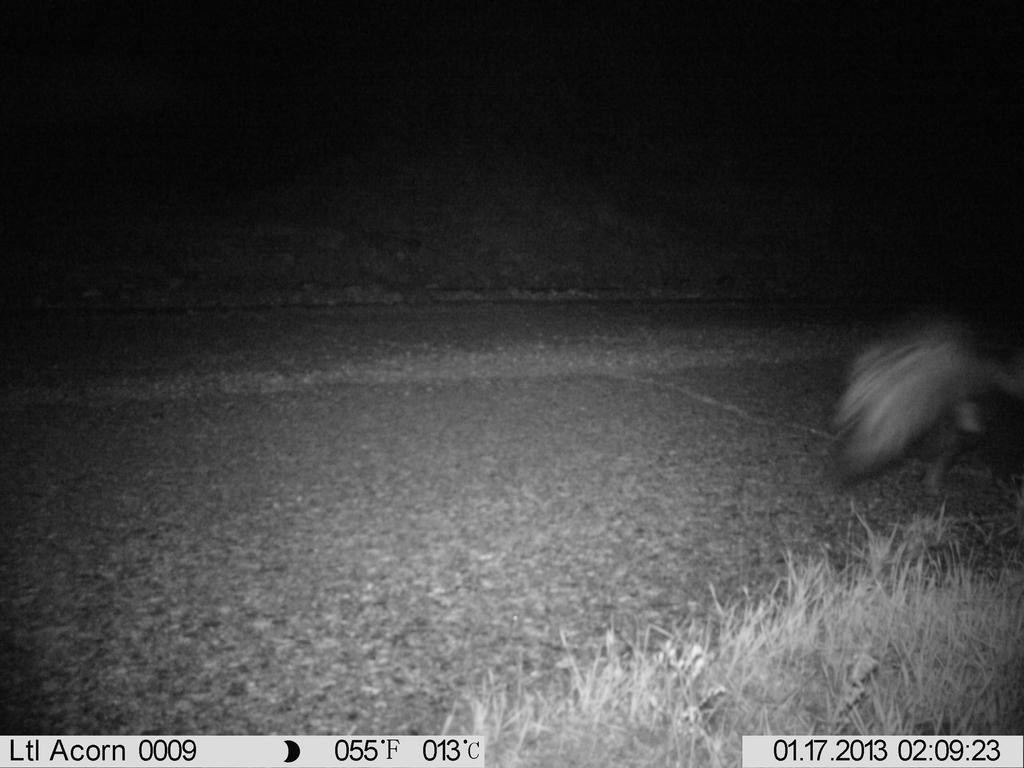skunk: (825, 305, 1023, 513)
